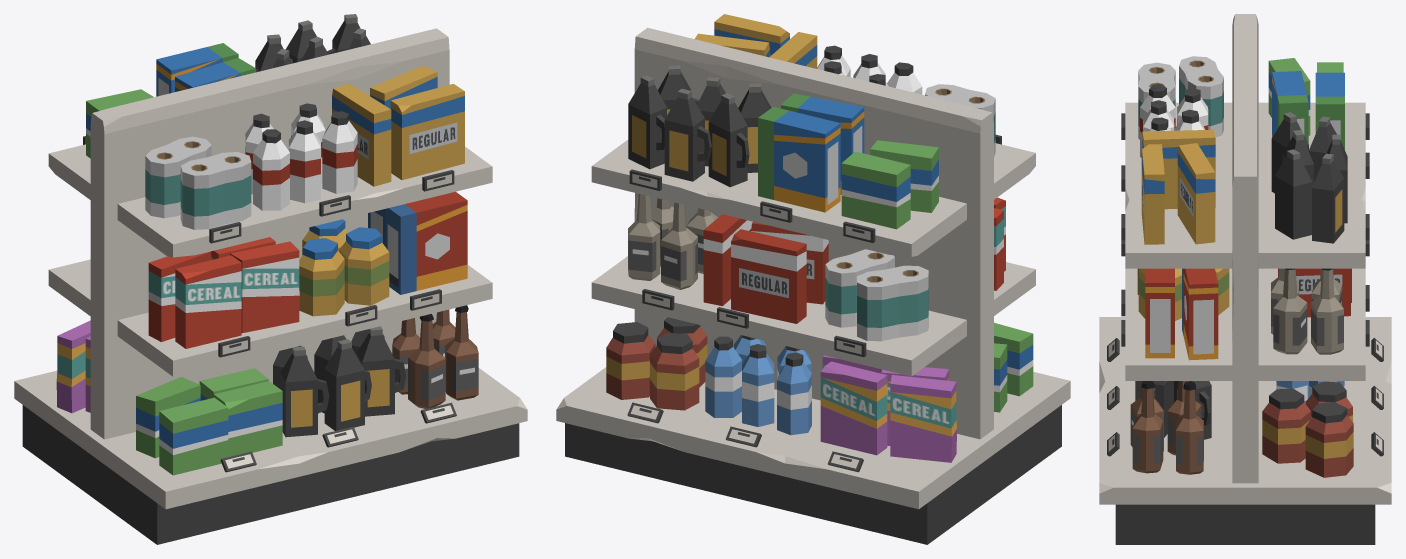
The model's file is SM_Prop_ShopShelf_02.fbx.
3 renders of one model, left to right at view 1: azimuth 30°, elevation 25°; view 2: azimuth 150°, elevation 25°; view 3: azimuth 270°, elevation 25°, orthographic. The views are drawn at different scales.
Parts seen in each view (by area): view 1: SM_Prop_ShopShelf_02; view 2: SM_Prop_ShopShelf_02; view 3: SM_Prop_ShopShelf_02.
Boxes of the visible parts, x1,y1,x2,y2 form: SM_Prop_ShopShelf_02: [14, 14, 527, 544]; SM_Prop_ShopShelf_02: [556, 14, 1070, 544]; SM_Prop_ShopShelf_02: [1099, 14, 1391, 544].
Bounding box in the file's own units: 169 × 168 × 123.
